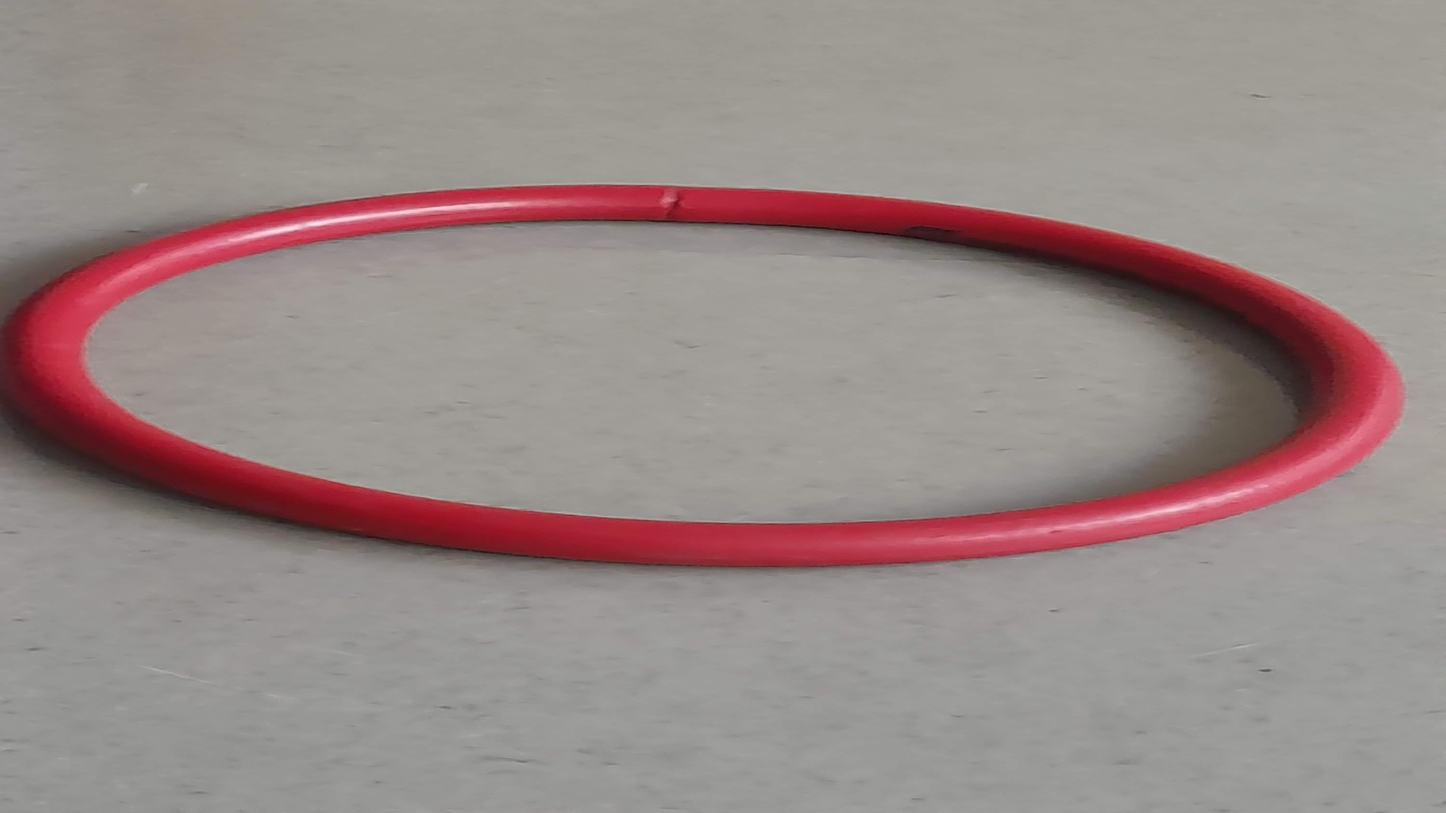Red ring: (14, 182, 1402, 562)
